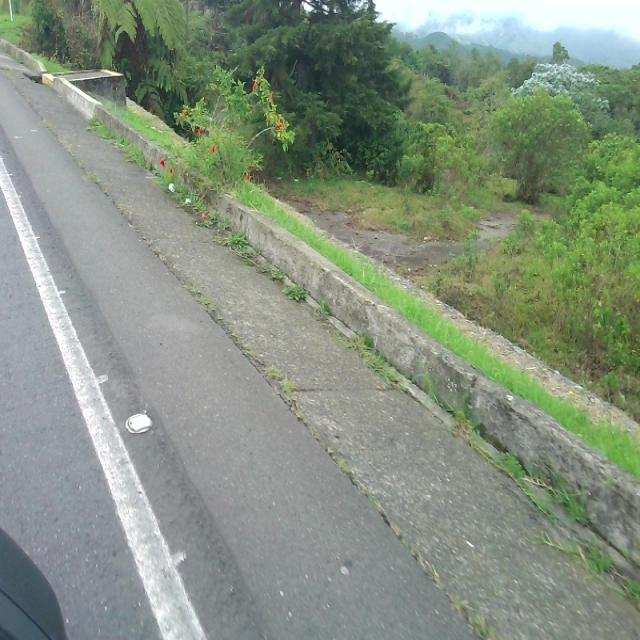DITCH: (1, 53, 638, 638), (1, 71, 638, 638)
